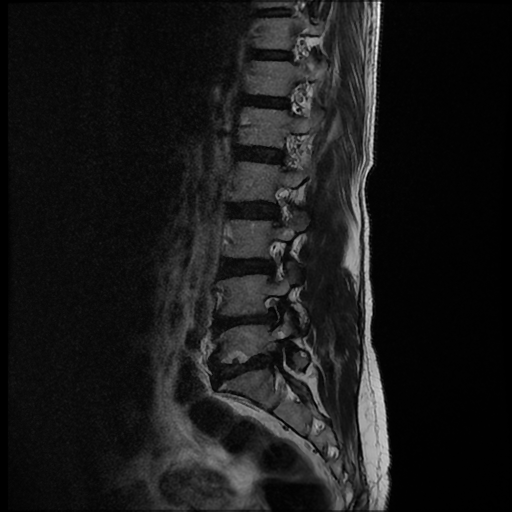RFS2: (252, 287, 291, 330)
